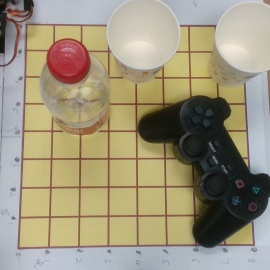bottle: (39, 37, 112, 162)
cup: (103, 1, 180, 98), (198, 2, 270, 88)
remote: (139, 95, 270, 249)
